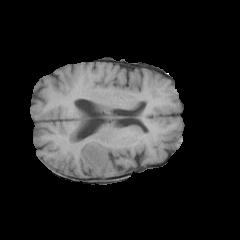glioma: (80, 136, 131, 176)
